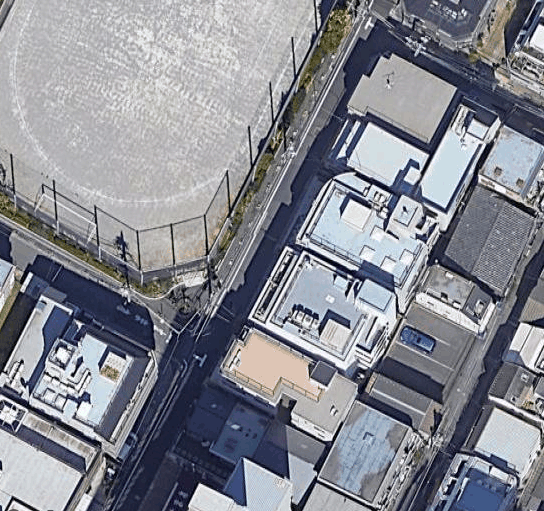facility: (251, 244, 396, 372), (30, 322, 149, 440), (0, 399, 88, 509), (416, 262, 495, 326), (407, 2, 495, 34)
flatroof: (338, 38, 467, 153), (313, 394, 416, 510), (324, 107, 432, 196), (457, 393, 543, 477), (480, 128, 542, 199), (451, 445, 517, 510)
rooftop: (250, 236, 401, 376), (286, 160, 440, 291), (213, 319, 363, 441), (412, 99, 503, 216)
